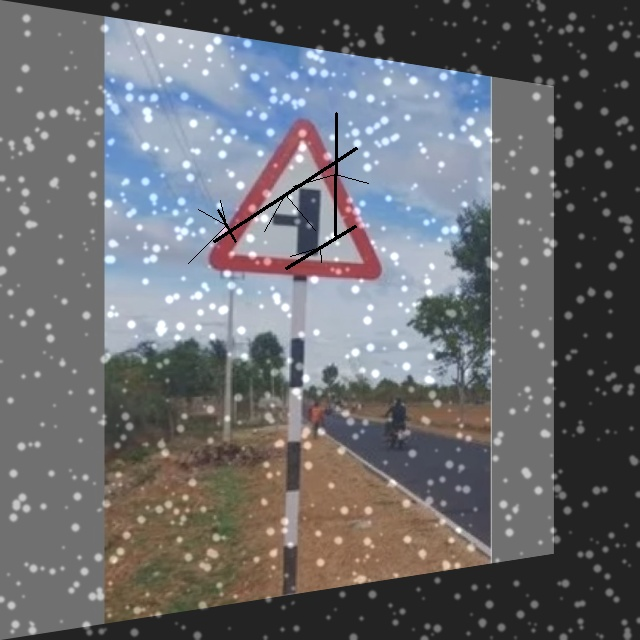Side_Road_Left: (212, 110, 383, 286)
